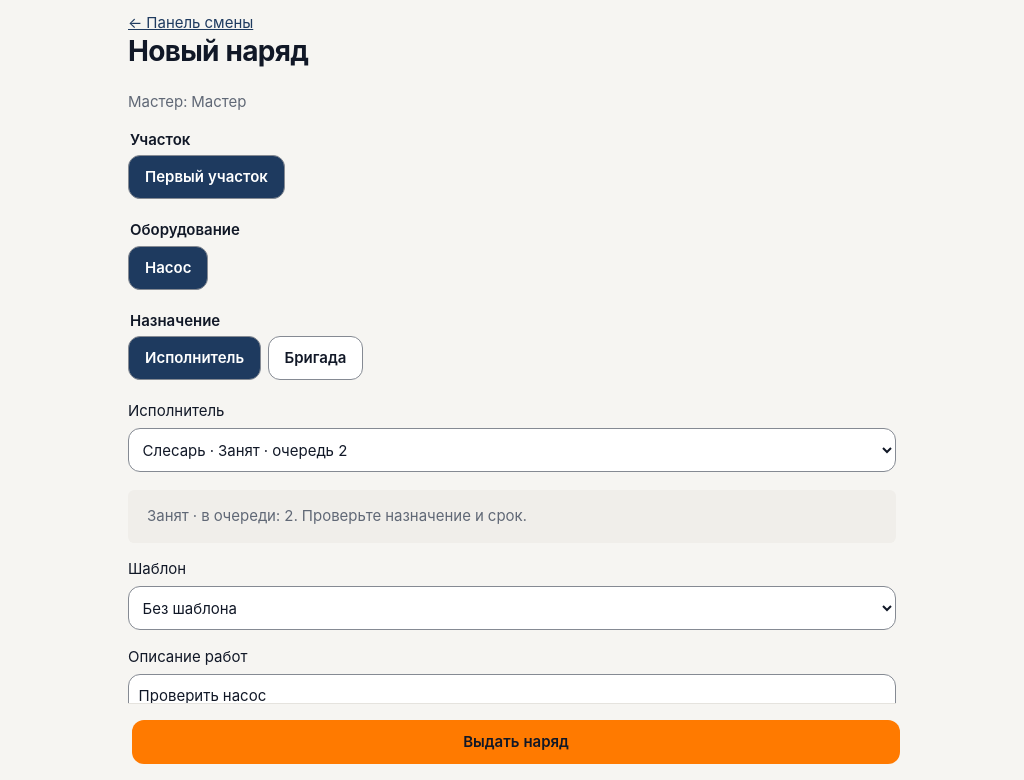
Test case: preserves input and repeats the identical command after an unknown network outcome
Earlier steps of the test are not shown.
Click the button "Выдать наряд". click: (516, 742)
box: [132,720,900,764]
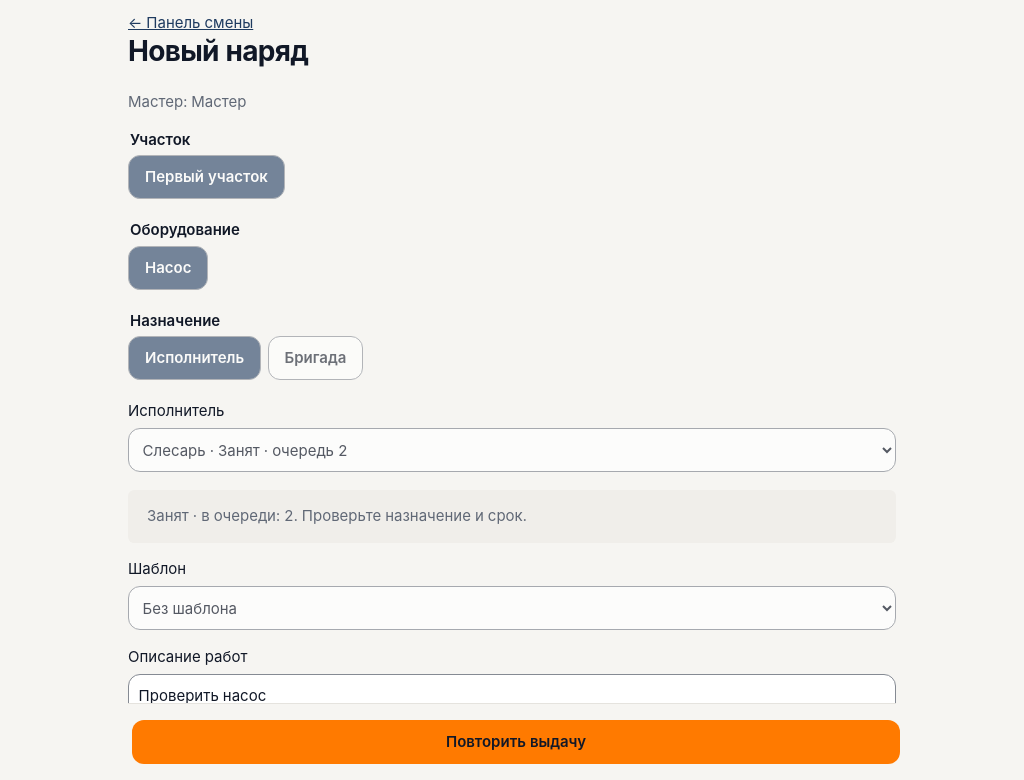
Click the button "Повторить выдачу". click: (516, 742)
box: [132,720,900,764]
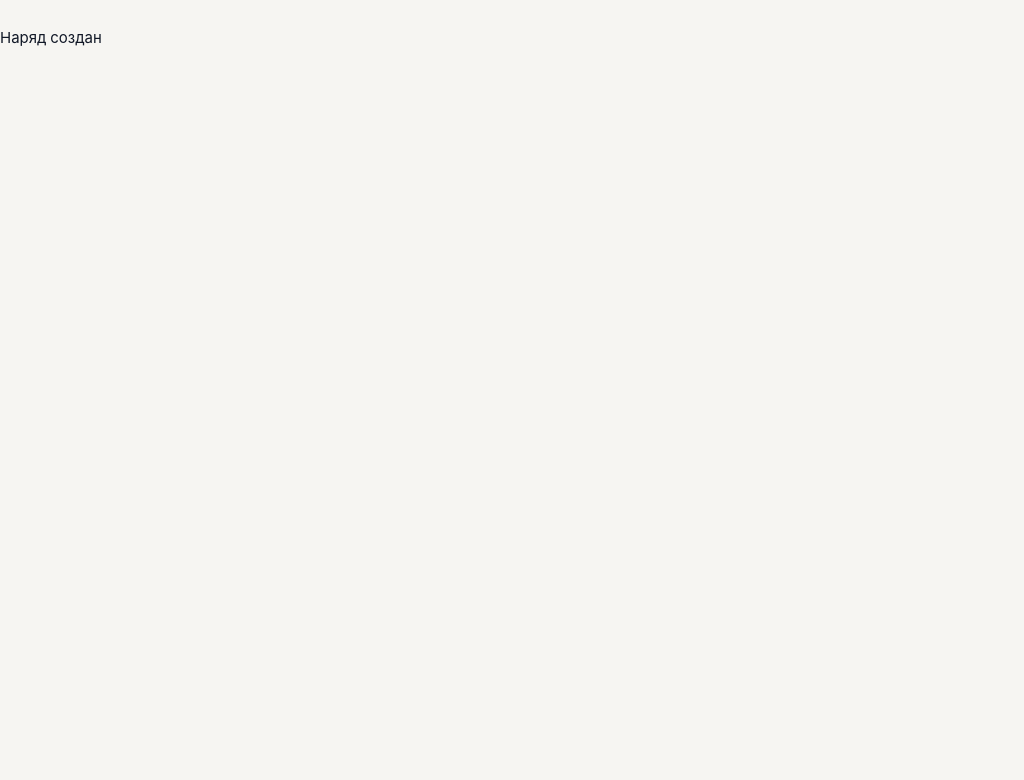
Now the text "Наряд создан" is shown, box [0,28,102,47]
